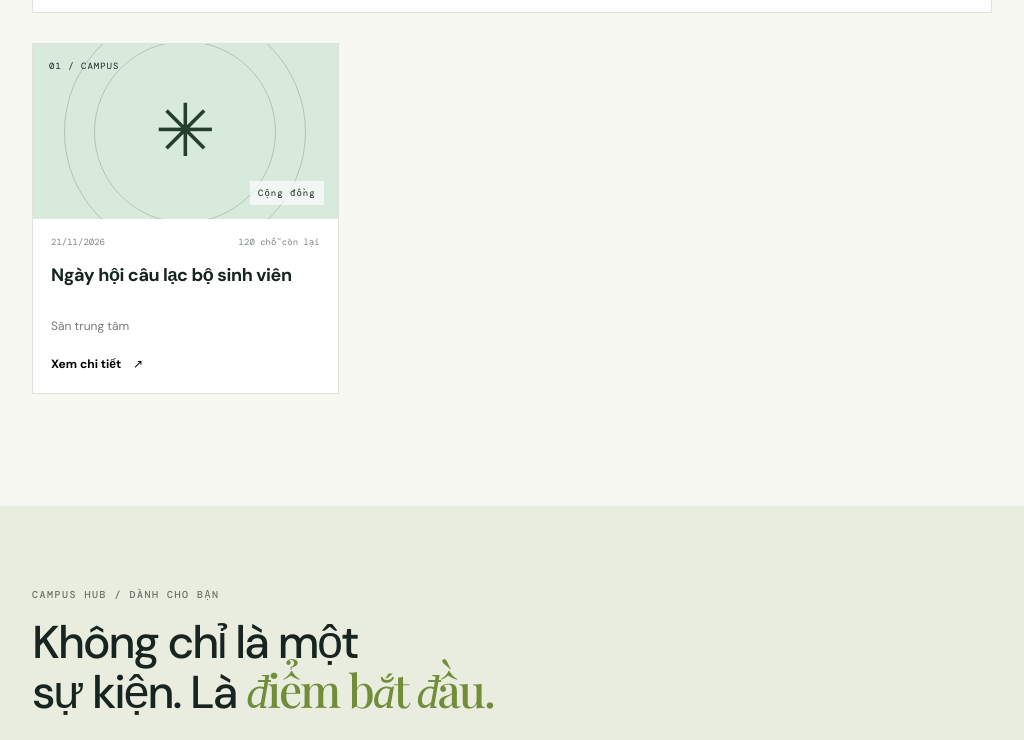
Test: Campus Hub event portal › shows a useful message when an event is full
(page scrolled)
Expected: the heading "Ngày hội câu lạc bộ sinh viên" is shown, [51,263,292,287]
Click the button "Xem chi tiết ↗" at (97, 364), box [51,356,143,372]
(page scrolled)
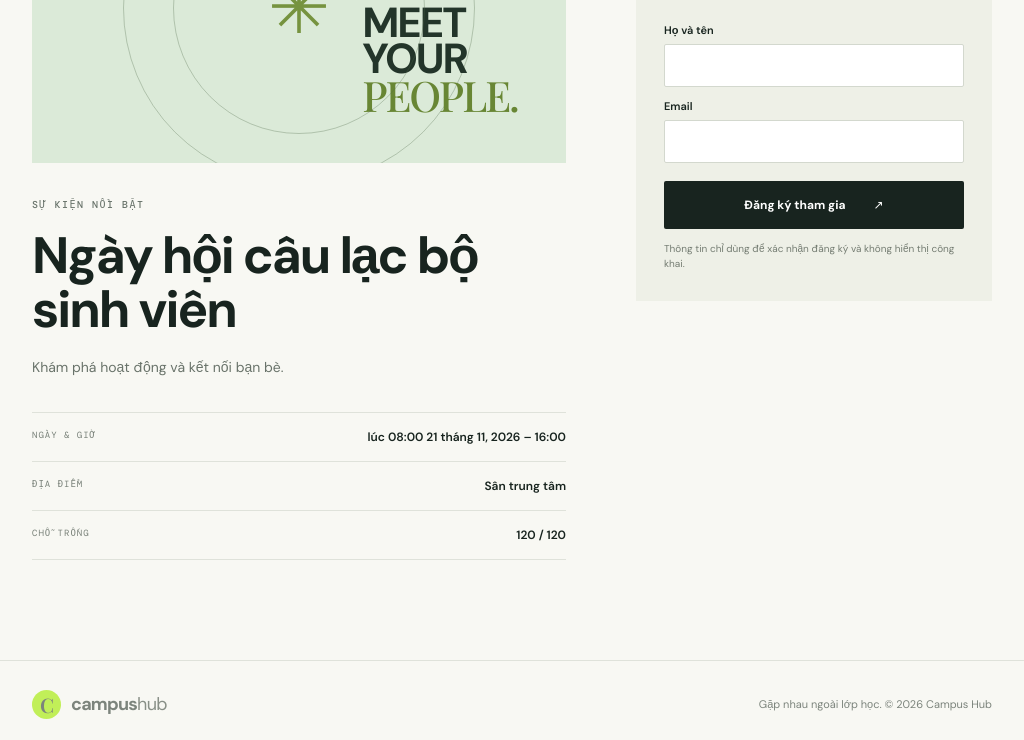
Now the field labelled "Họ và tên" is shown
Type "Nguyễn An" into the field labelled "Họ và tên" at (814, 65), box [664,44,964,86]
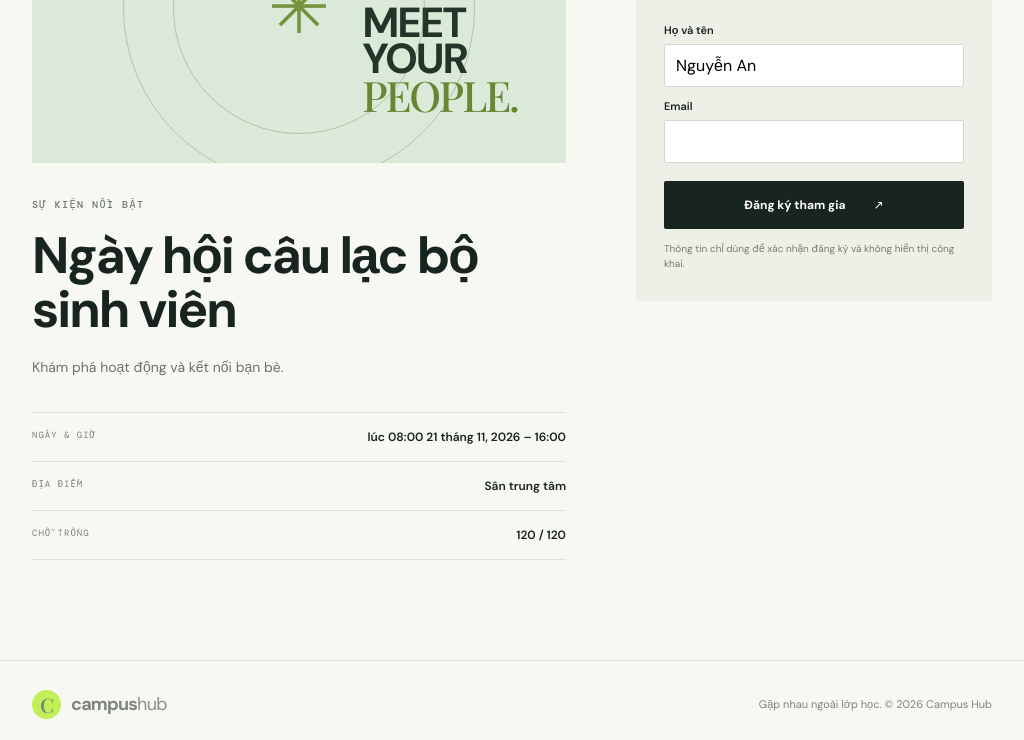
Type "an@example.com" into the field labelled "Email" at (814, 141), box [664,120,964,162]
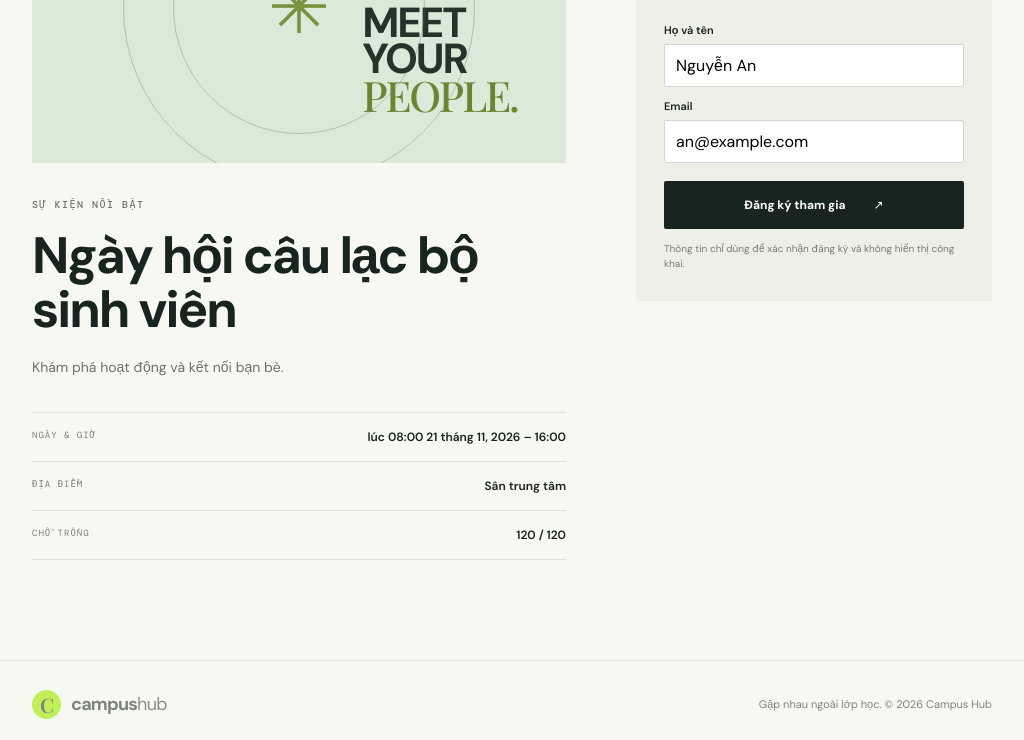
Click the button "Đăng ký tham gia ↗" at (814, 204), box [664,180,964,228]
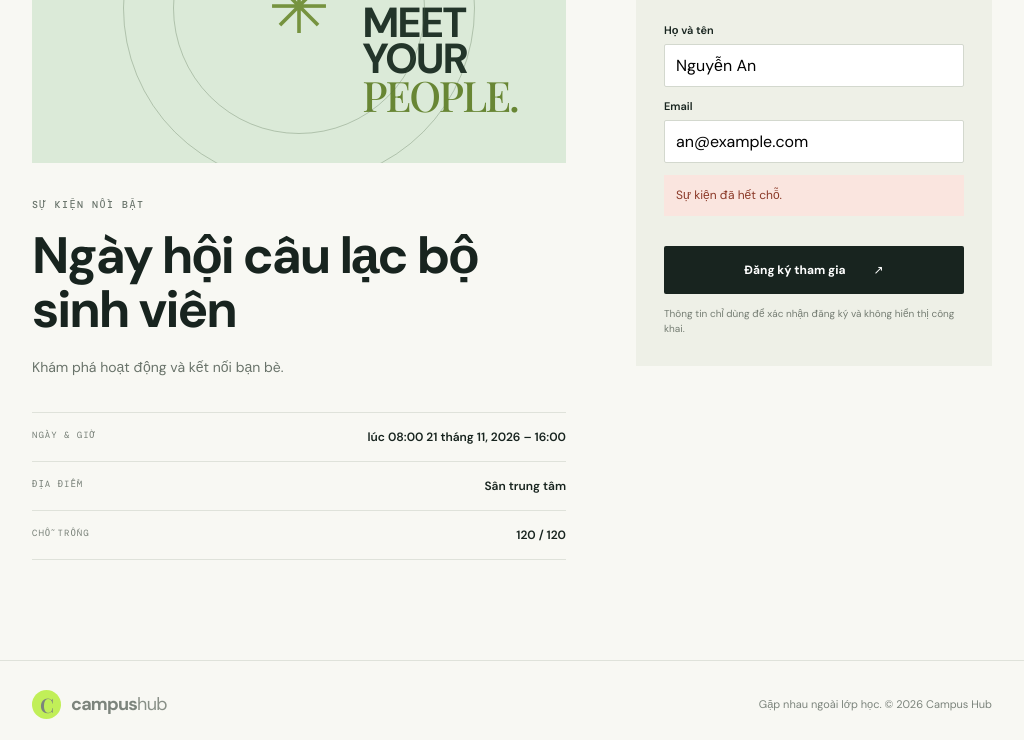
Now the message reads "Sự kiện đã hết chỗ.", box [676,186,782,202]
